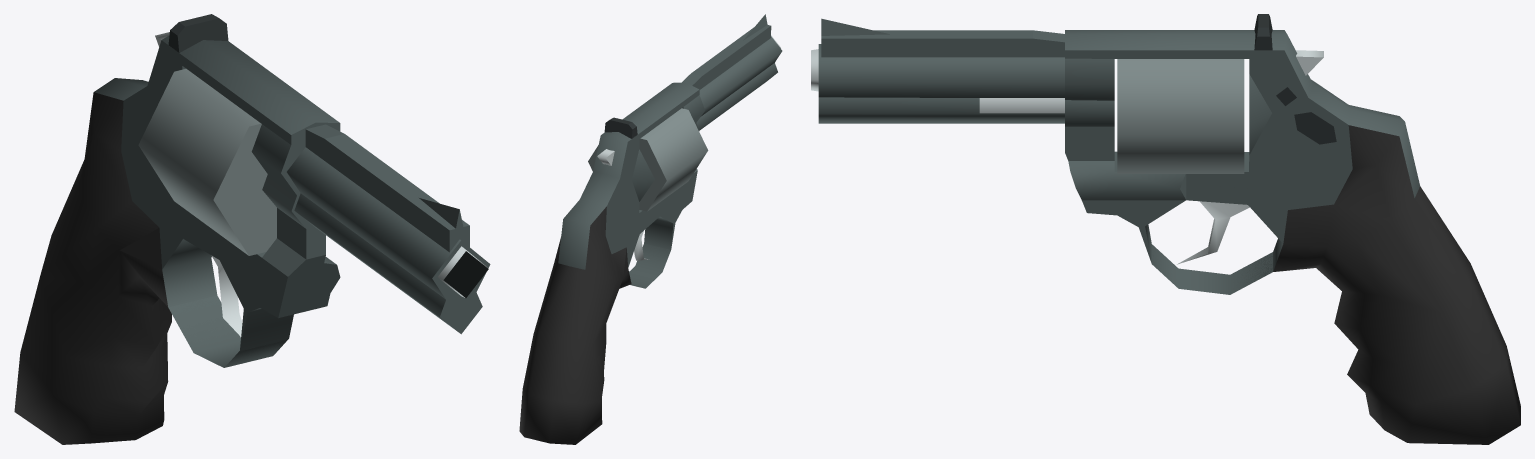
File: Weapon_Low_Revolver.FBX
3 renders of one model, left to right at view 1: azimuth 30°, elevation 25°; view 2: azimuth 150°, elevation 25°; view 3: azimuth 270°, elevation 25°, orthographic. The views are drawn at different scales.
Visible parts, largest first — view 1: WeaponRevolver_Low; view 2: WeaponRevolver_Low; view 3: WeaponRevolver_Low.
Part boxes in pixels (left/top/right/bottom): WeaponRevolver_Low: left=14, top=14, right=490, bottom=444; WeaponRevolver_Low: left=519, top=14, right=782, bottom=444; WeaponRevolver_Low: left=811, top=14, right=1520, bottom=444.
Bounding box in the file's own units: 6.78 × 34.48 × 21.72.
